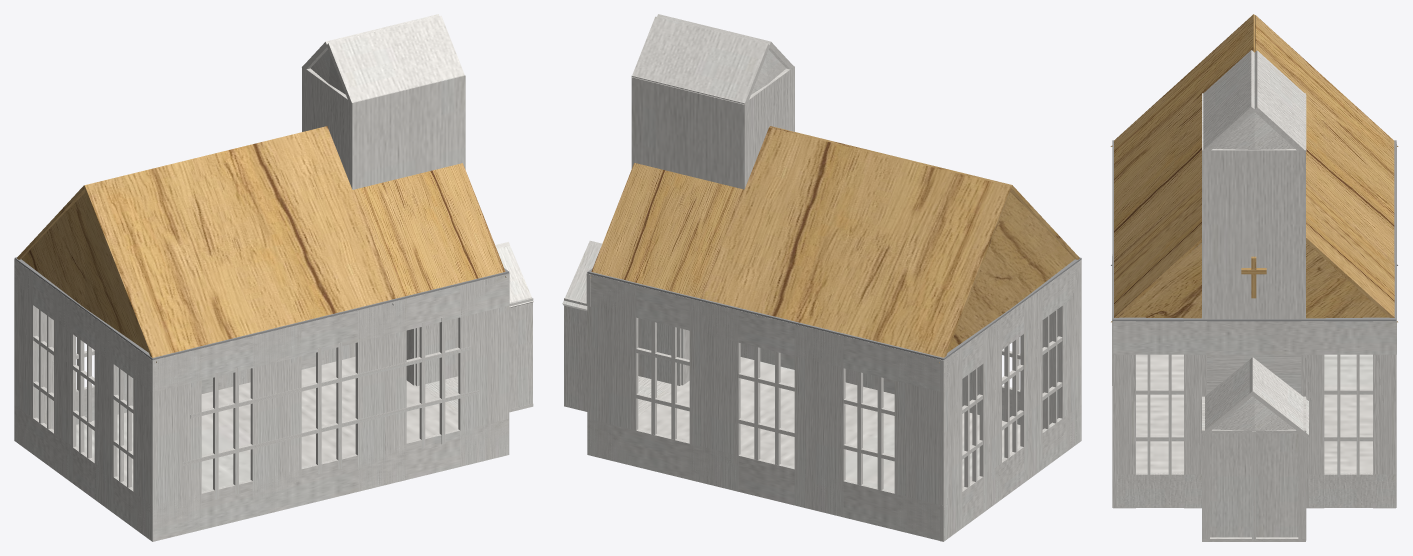
File: maya2sketchfab.fbx
3 renders of one model, left to right at view 1: azimuth 30°, elevation 25°; view 2: azimuth 150°, elevation 25°; view 3: azimuth 270°, elevation 25°, orthographic. The views are drawn at different scales.
Visible parts, largest first — view 1: floor13, floor15, floor3; view 2: floor13, floor15, floor3; view 3: floor13, floor15, floor3, wall24.
Part boxes in pixels (x1,y1,x2,y2): floor13: (14,14,533,541); floor15: (16,126,506,362); floor3: (14,257,509,360); floor13: (562,14,1081,541); floor15: (590,126,1079,362); floor3: (587,257,1081,360); floor13: (1112,50,1396,541); floor15: (1110,14,1398,322); floor3: (1112,140,1396,321); wall24: (1241,256,1266,298).
Size of the model in its own units: 116 by 102 by 66.51.
3 materials, 2 textured.
